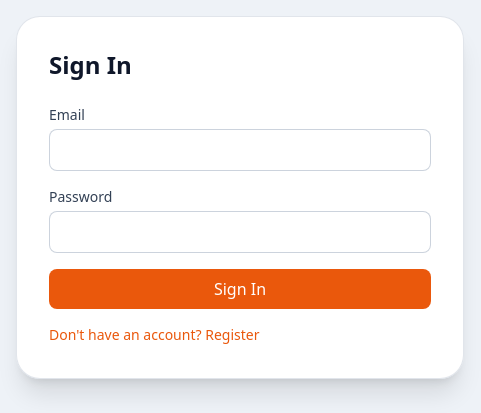
Test: AuthPage › switches from register back to login mode
Click the button "Don't have an account? Register" at [154, 334], box 49,324 -> 260,344
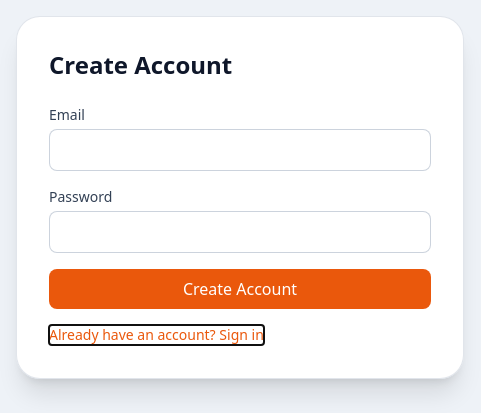
Click the button "Already have an account? Sign in" at [156, 334], box 49,324 -> 264,344
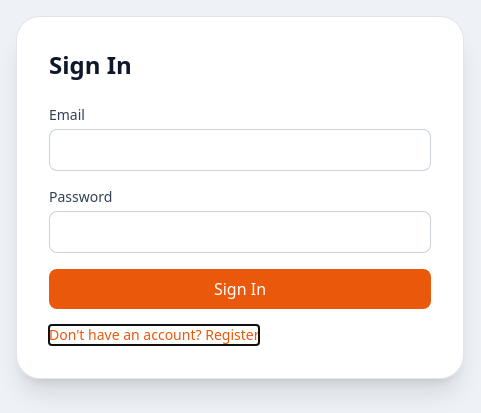
expect the heading "Sign In" is shown: met, box 49,48 -> 132,80
